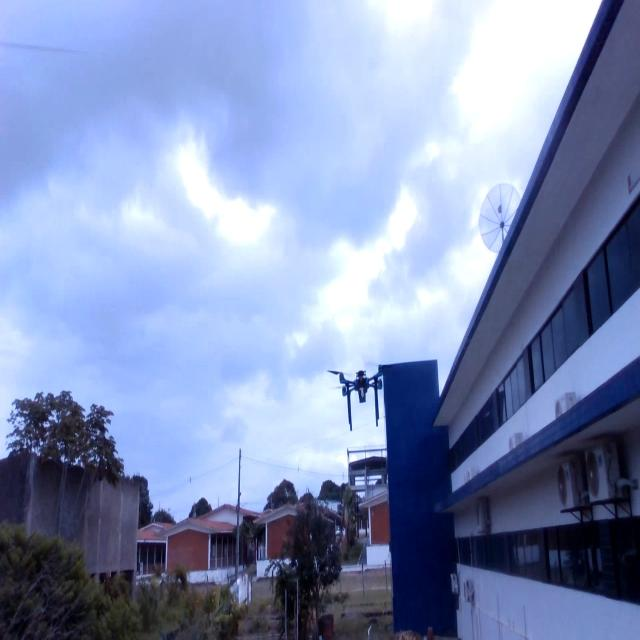-uav-: (319, 342, 410, 439)
